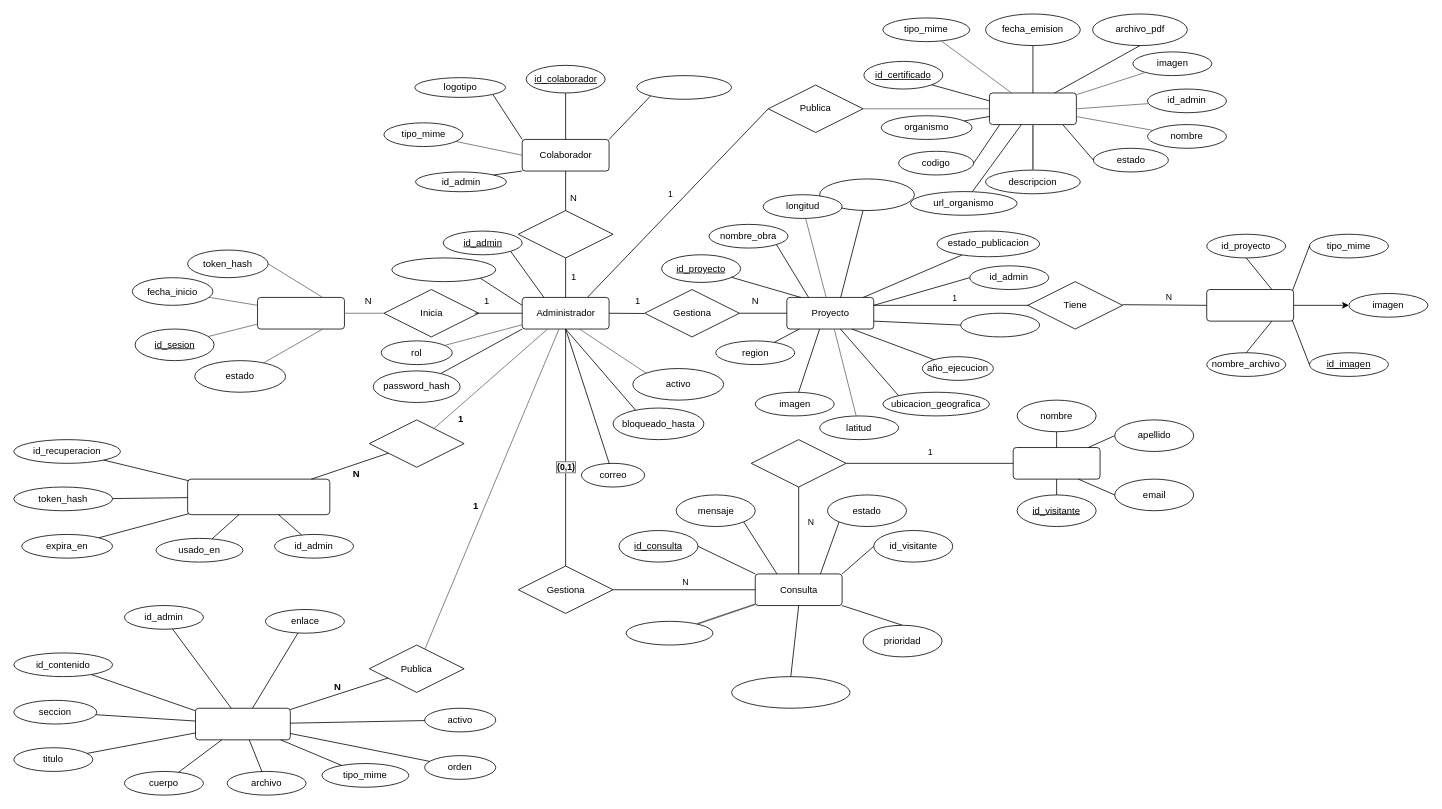
This 1442x809 diagram has some shape labels left out. The shapes that lost their labels are listed below. From the top down, each one's box as (x1, y1, x2, y2) in pixels, then its label:
(636, 75, 732, 99): nombre_comercial
(989, 92, 1076, 125): Certificado
(819, 178, 914, 211): descripcion_tecnica
(517, 210, 613, 258): Crea
(391, 257, 496, 282): intentos_fallidos
(257, 297, 344, 329): Sesion
(960, 312, 1040, 337): categoria
(1206, 289, 1294, 321): Imagen_Proyecto
(369, 419, 464, 467): Solicita
(750, 439, 846, 487): Envía
(1012, 447, 1100, 479): Visitante
(187, 478, 330, 515): Recuperacion_Password
(625, 621, 713, 645): created_at
(731, 676, 850, 708): id_admin_responsable
(195, 707, 290, 740): Contenido
